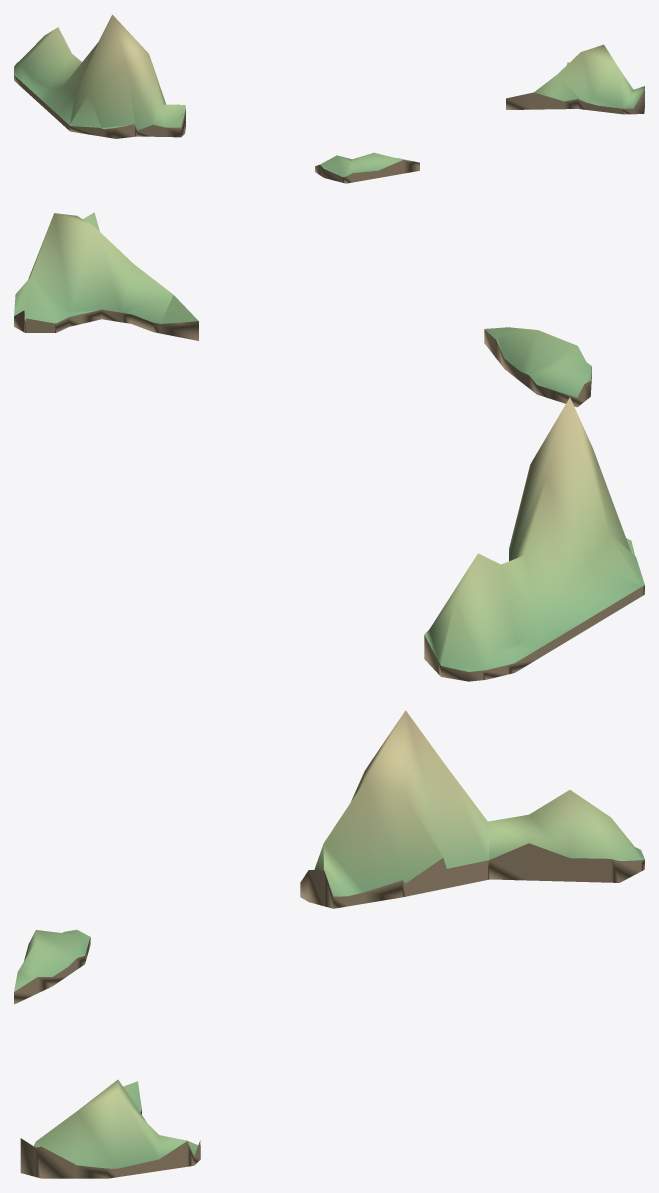
The model's file is COM.glb.
3 renders of one model, top to bottom at view 1: azimuth 30°, elevation 25°; view 2: azimuth 150°, elevation 25°; view 3: azimuth 270°, elevation 25°, orthographic. The views are drawn at different scales.
Visible parts, largest first — view 1: COM; view 2: COM; view 3: COM.
Part boxes in pixels (x1,y1,x2,y2): COM: (14, 14, 644, 183); COM: (14, 212, 644, 681); COM: (14, 710, 644, 1178).
Bounding box in the file's own units: 1.52 × 0.338 × 1.2.
